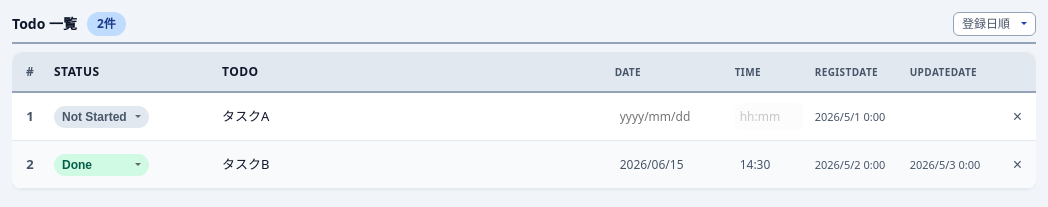
TodoTable - date/time auto-format and validation (US-016) › auto-formats yyyymmdd to yyyy/mm/dd on blur
The width and height of the screenshot is (1048, 207).
Type "20260507" into the field with placeholder "yyyy/mm/dd" at (669, 117), box [615, 103, 723, 130]
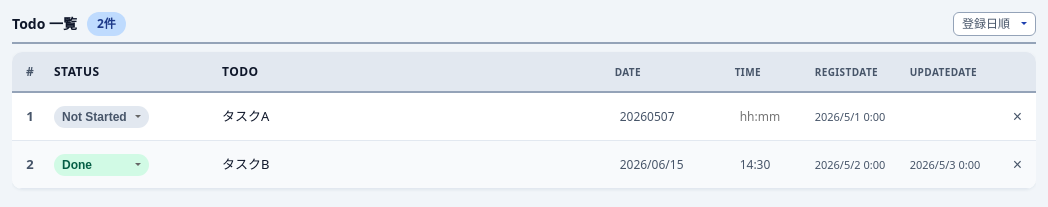
Leave the field in the row of "タスクA", box [615, 103, 723, 130]
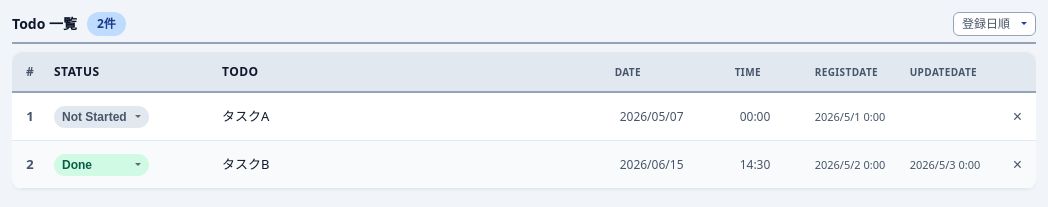
Expected: the 1st field holds "2026/05/07", [615, 103, 723, 130]
